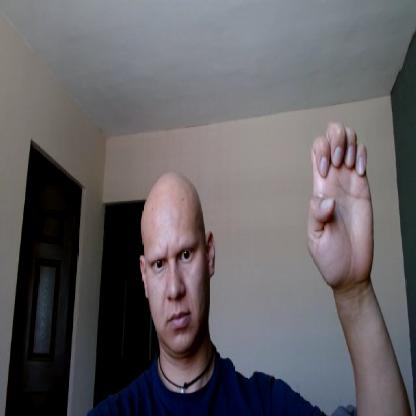E: (307, 120, 374, 285)
